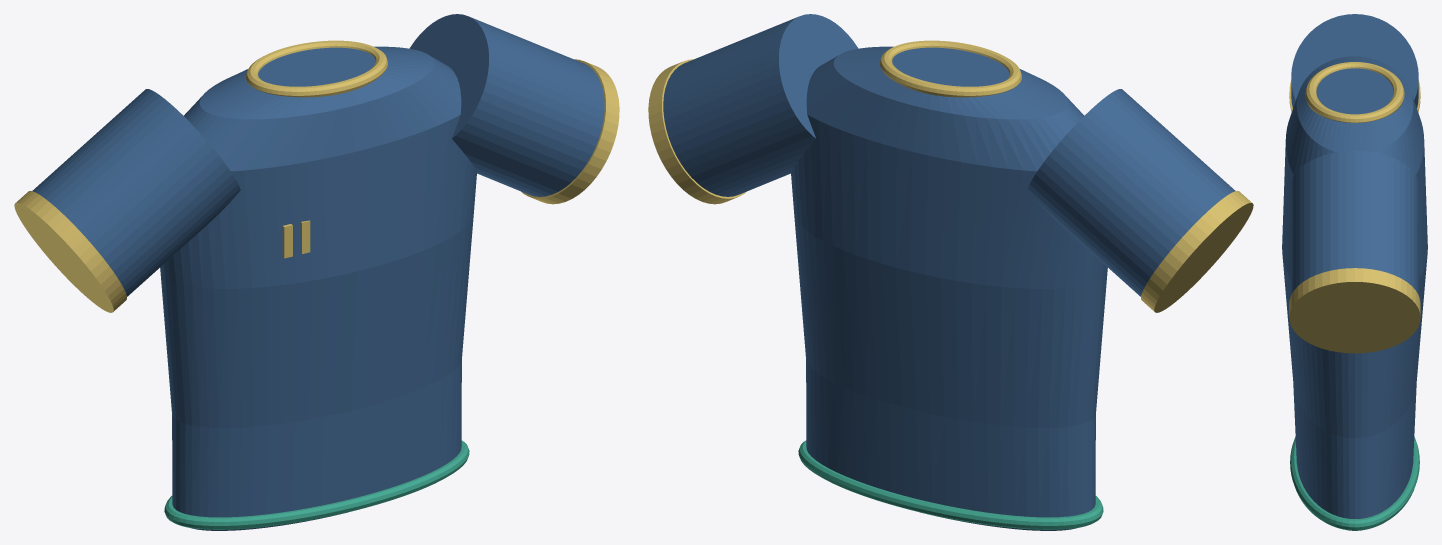
File: camiseta-conceitual.glb
The picture shows the model from 3 angles, left to right: view 1: azimuth 30°, elevation 25°; view 2: azimuth 150°, elevation 25°; view 3: azimuth 270°, elevation 25°; orthographic projection. The views are drawn at different scales.
Visible parts, largest first — view 1: world; view 2: world; view 3: world.
Part boxes in pixels (box(x1,y1,x2,y2)): world: box(14, 14, 619, 530); world: box(648, 14, 1253, 530); world: box(1282, 14, 1427, 530).
Size of the model in its own units: 1.63 by 1.18 by 0.4.
